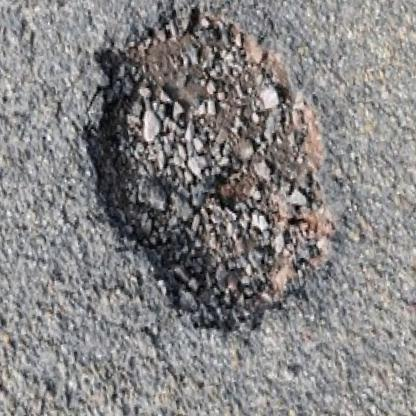pothole: (63, 0, 364, 352)
